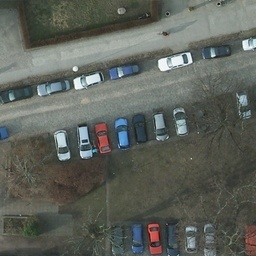car: (157, 50, 193, 71), (75, 124, 94, 161), (190, 101, 208, 137), (52, 129, 71, 163), (72, 71, 104, 91), (94, 121, 112, 155), (152, 110, 171, 142), (37, 77, 68, 96), (131, 112, 149, 144), (1, 84, 32, 102), (114, 117, 130, 151), (236, 89, 252, 122), (172, 105, 188, 135), (110, 62, 139, 78), (201, 45, 231, 60), (185, 225, 200, 254), (166, 227, 181, 256), (148, 224, 163, 253), (128, 224, 143, 253), (202, 225, 217, 254), (1, 126, 9, 144)
